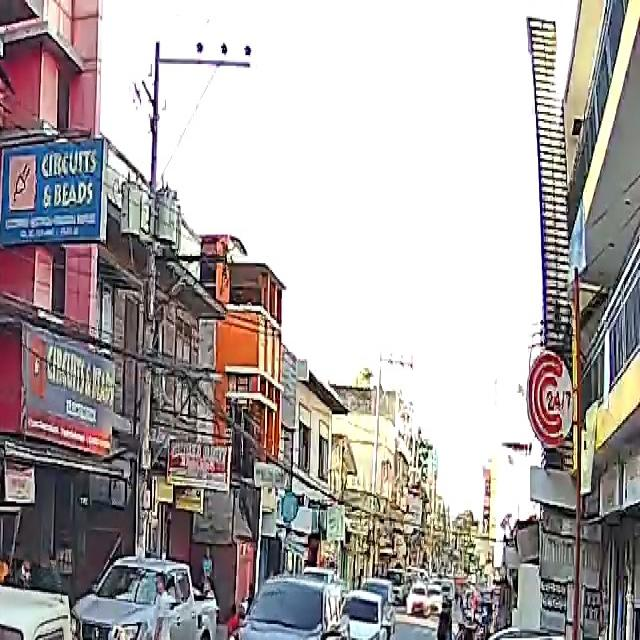car: (73, 551, 224, 640), (220, 572, 354, 640), (337, 583, 395, 640), (470, 627, 639, 640), (404, 583, 445, 618)
